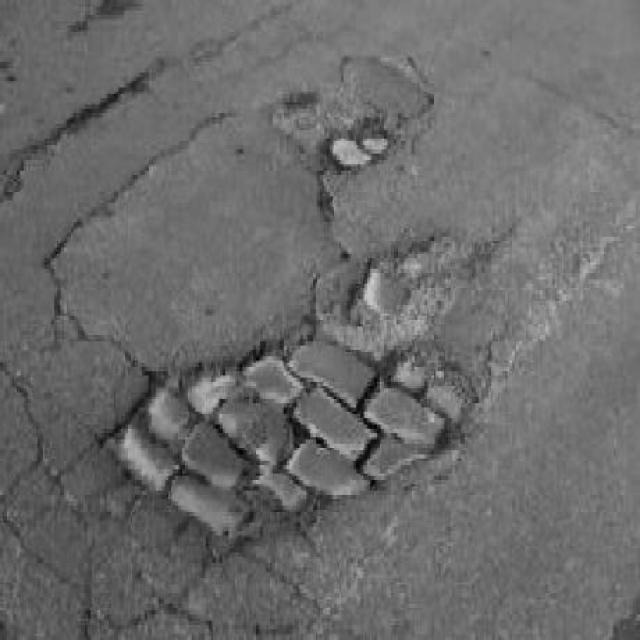jalan_berlubang: (302, 115, 392, 173)
